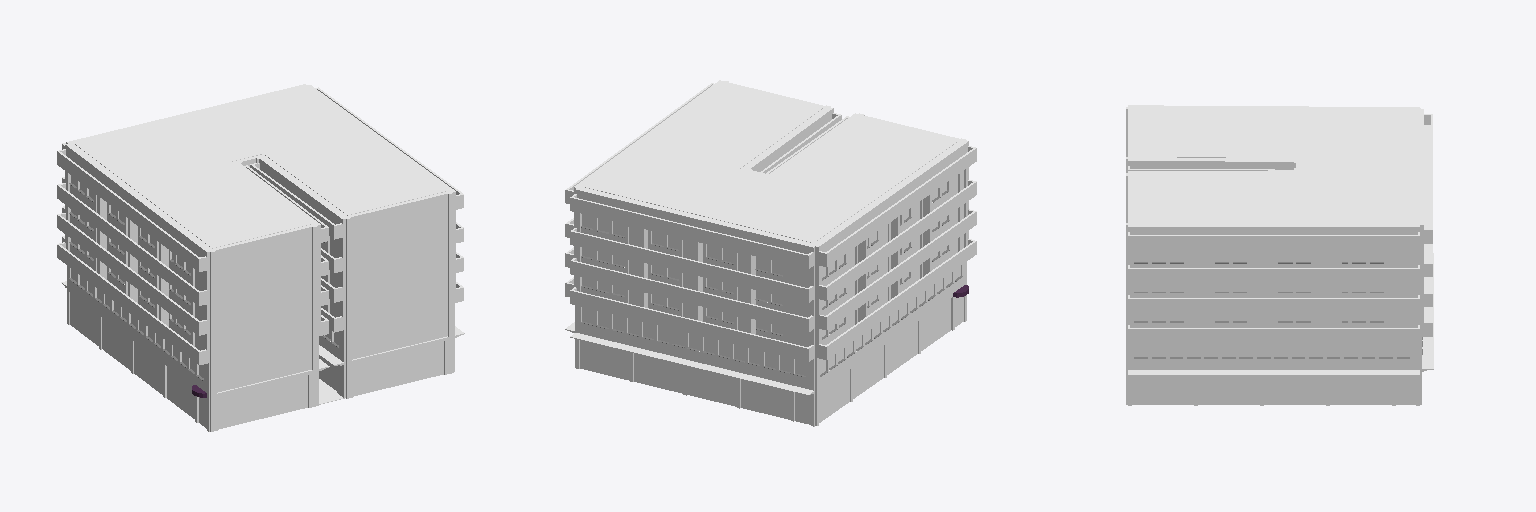
File: aptBrick.obj
The picture shows the model from 3 angles: view 1: azimuth 30°, elevation 25°; view 2: azimuth 150°, elevation 25°; view 3: azimuth 270°, elevation 25°; orthographic projection.
Visible parts, largest first — view 1: Rule3_copy1_copy1_copy_copy_m1, TEXTUREDIVARHAYEATRAF_m2, texturebalcon_m15, Rule2_m6, Rule80_m7, panjeres_2_m5, panjeres_m3, panjeres_3_m9, panjeres_4_m16, pishkhanepanjeretex_m24, Rule3_copy1_copy1_copy_m17, Rule82_m20; view 2: Rule3_copy1_copy1_copy_copy_m1, texturebalcon_m15, Rule2_m6, Rule80_m7, Rule82_m20, panjeres_3_m9, panjeres_1_m4, windos_m10, windos_1_m11, pishkhanepanjeretex_m24, topledge2tex_m8, panjeres_2_m5 (+5 smaller); view 3: Rule3_copy1_copy1_copy_copy_m1, texturebalcon_m15, Rule2_m6, Rule80_m7, panjeres_5_m18, Rule82_m20, windos_3_m13, windos_1_m11, topledge2tex_m8, panjeres_3_m9, panjeres_1_m4, windos_4_m14 (+3 smaller).
Boxes of the visible parts, box(x1,y1,x2,y2) form: Rule3_copy1_copy1_copy_copy_m1: box(68, 86, 451, 251); TEXTUREDIVARHAYEATRAF_m2: box(216, 158, 447, 392); texturebalcon_m15: box(57, 87, 463, 364); Rule2_m6: box(67, 85, 454, 422); Rule80_m7: box(65, 84, 455, 431); panjeres_2_m5: box(353, 342, 443, 396); panjeres_m3: box(218, 375, 307, 429); panjeres_3_m9: box(102, 317, 162, 394); panjeres_4_m16: box(70, 293, 98, 345); pishkhanepanjeretex_m24: box(69, 183, 338, 380); Rule3_copy1_copy1_copy_m17: box(167, 367, 194, 418); Rule82_m20: box(97, 195, 336, 350); Rule3_copy1_copy1_copy_copy_m1: box(577, 81, 964, 245); texturebalcon_m15: box(565, 83, 976, 361); Rule2_m6: box(575, 81, 966, 424); Rule80_m7: box(574, 80, 968, 426); Rule82_m20: box(629, 175, 957, 345); panjeres_3_m9: box(580, 322, 917, 398); panjeres_1_m4: box(687, 366, 790, 419); windos_m10: box(582, 222, 960, 368); windos_1_m11: box(613, 210, 937, 375); pishkhanepanjeretex_m24: box(581, 190, 962, 376); topledge2tex_m8: box(565, 322, 814, 395); panjeres_2_m5: box(634, 353, 682, 393); Rule3_copy1_copy1_copy_copy_m1: box(1128, 107, 1419, 224); texturebalcon_m15: box(1128, 108, 1432, 341); Rule2_m6: box(1128, 106, 1421, 405); Rule80_m7: box(1126, 105, 1423, 405); panjeres_5_m18: box(1132, 376, 1259, 404); Rule82_m20: box(1188, 251, 1404, 327); windos_3_m13: box(1134, 249, 1392, 356); windos_1_m11: box(1152, 249, 1383, 356); topledge2tex_m8: box(1128, 253, 1433, 375); panjeres_3_m9: box(1330, 376, 1391, 404); panjeres_1_m4: box(1264, 376, 1325, 404); windos_4_m14: box(1134, 249, 1409, 356).
Size of the model in its own units: 9.75 by 6.31 by 9.78.